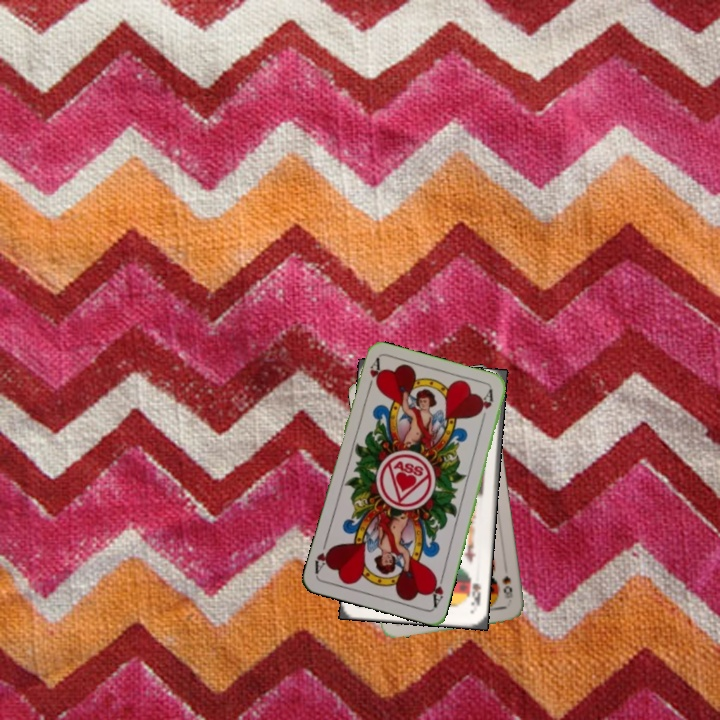HA: (363, 355, 384, 395), (427, 569, 447, 610)
S8: (499, 571, 515, 601)
SK: (467, 579, 483, 609)
